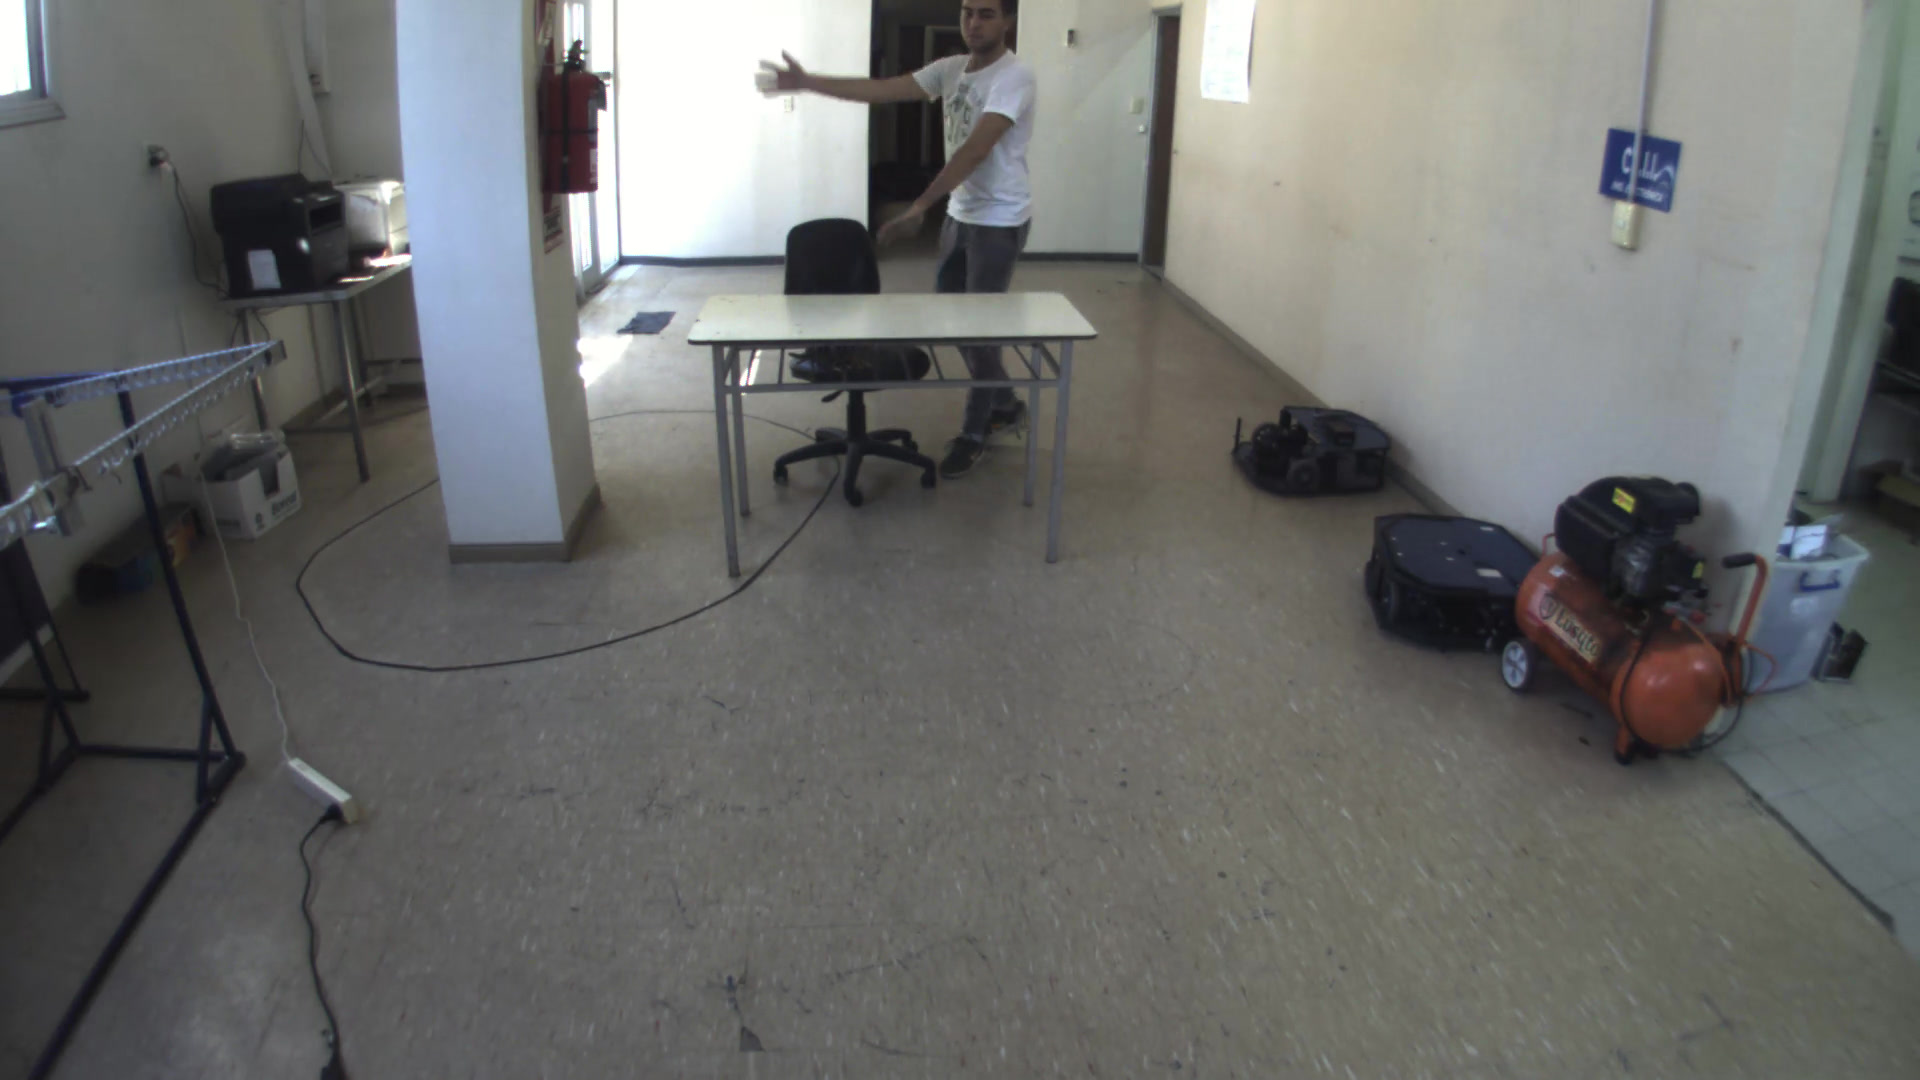hand: (738, 45, 812, 102), (866, 196, 942, 251)
